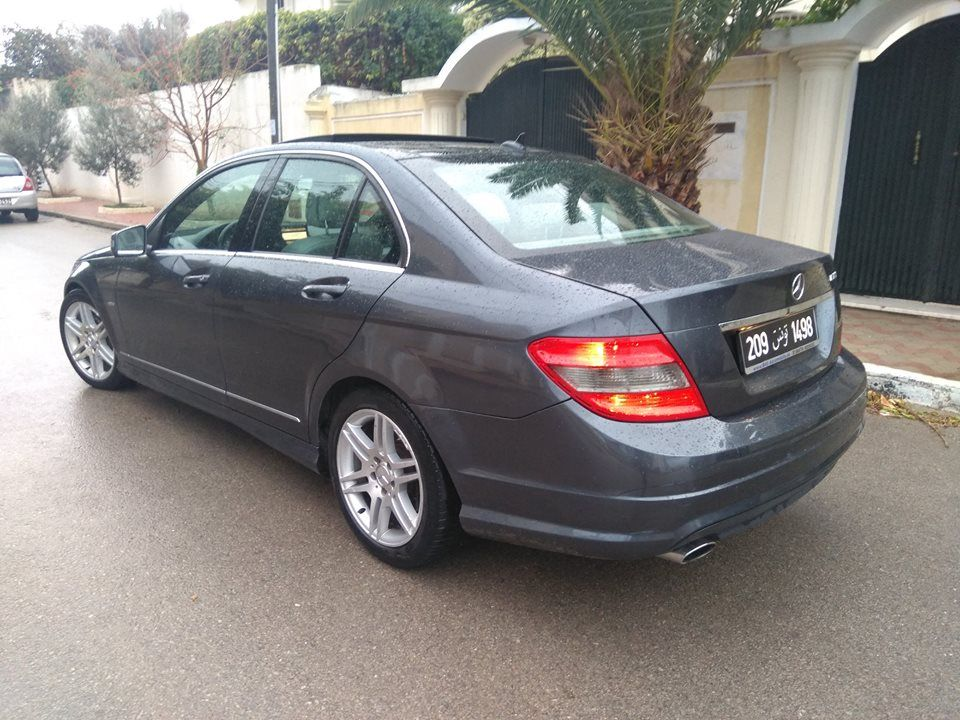LP: (738, 303, 820, 374)
